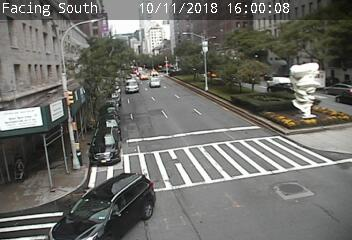car: (150, 77, 159, 87), (140, 74, 148, 80), (150, 71, 159, 76)
